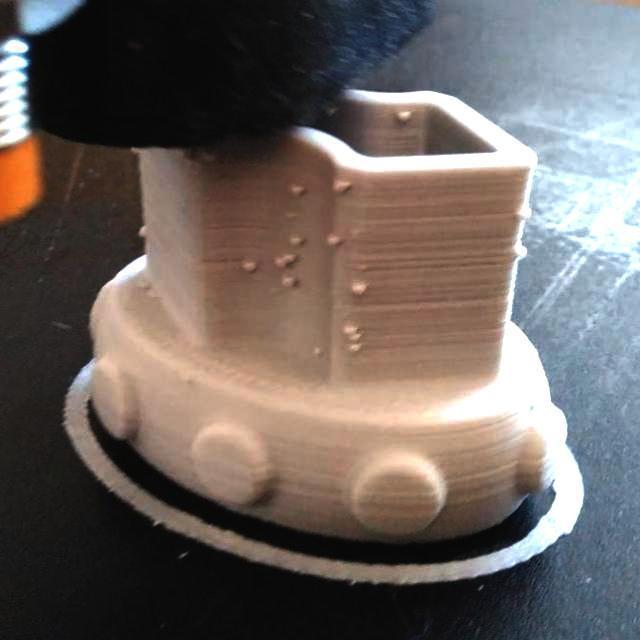zits: (278, 230, 308, 252), (238, 255, 262, 281), (331, 175, 358, 197), (337, 314, 361, 338), (271, 250, 297, 270), (135, 218, 157, 241), (322, 228, 346, 249), (280, 182, 308, 200), (275, 274, 300, 294), (512, 200, 534, 222), (348, 280, 372, 298), (344, 336, 365, 354), (509, 242, 531, 258), (396, 110, 413, 126)
